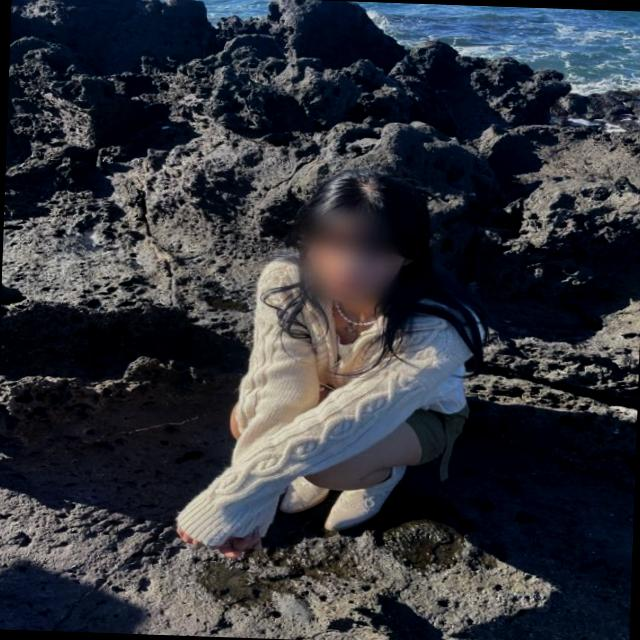cardigan: (171, 245, 476, 553)
skirt: (403, 393, 462, 480)
